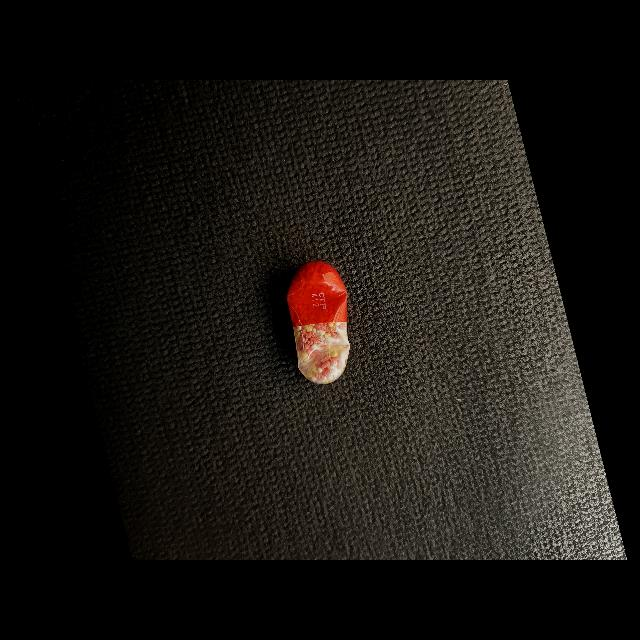Defective Capsule: (286, 260, 350, 384)
